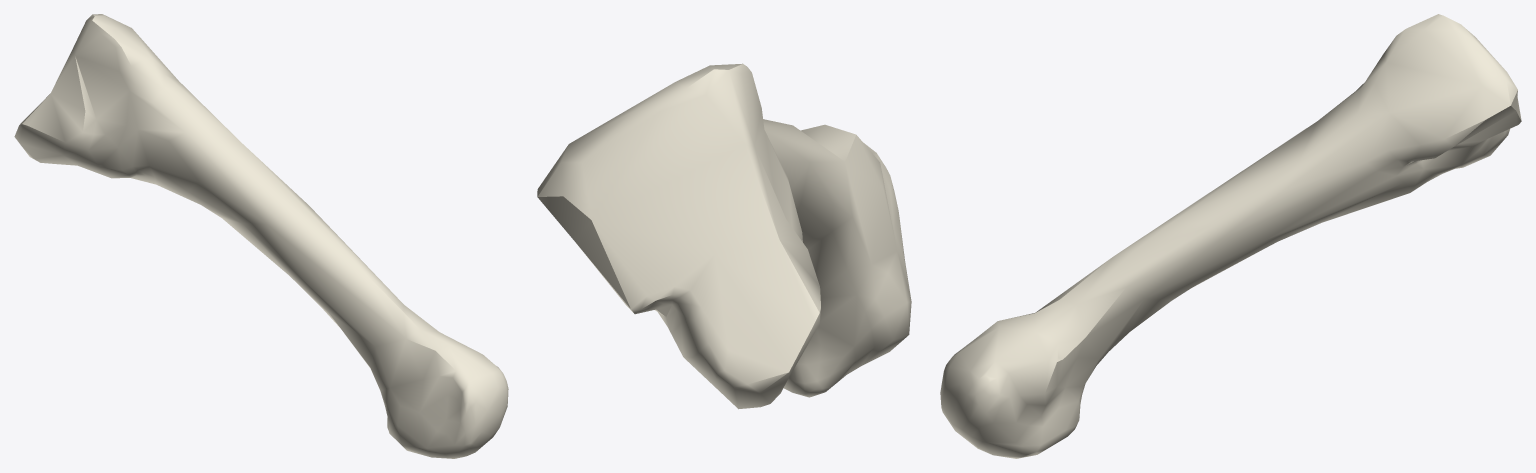
File: fma24512_fj6358.glb
3 views of the same model, side by side, from view 1: azimuth 30°, elevation 25°; view 2: azimuth 150°, elevation 25°; view 3: azimuth 270°, elevation 25° (orthographic). The views are drawn at different scales.
Parts seen in each view (by area): view 1: FMA24512_FJ6358; view 2: FMA24512_FJ6358; view 3: FMA24512_FJ6358.
Boxes of the visible parts, x1,y1,x2,y2 form: FMA24512_FJ6358: (14, 14, 508, 458); FMA24512_FJ6358: (537, 63, 911, 409); FMA24512_FJ6358: (940, 14, 1521, 458).
Bounding box in the file's own units: 0.0352 × 0.0428 × 0.0625.
